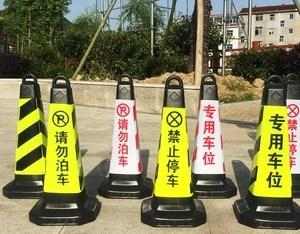cone_barrel: (239, 75, 298, 221), (144, 75, 198, 219), (37, 74, 91, 212), (97, 75, 150, 198), (4, 75, 51, 194), (189, 79, 230, 195)
